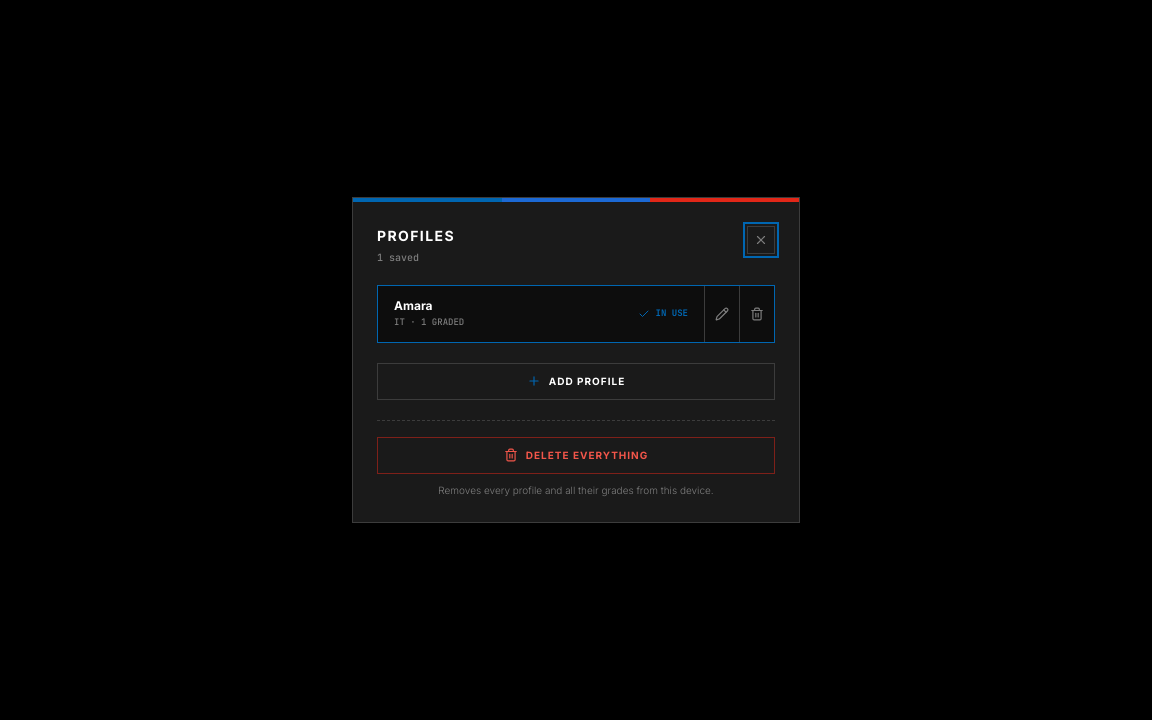
Test: ProfileMenu › warns that deleting the only profile returns to first run
Click the button named "delete amara" at (756, 314), box [739,286,774,342]
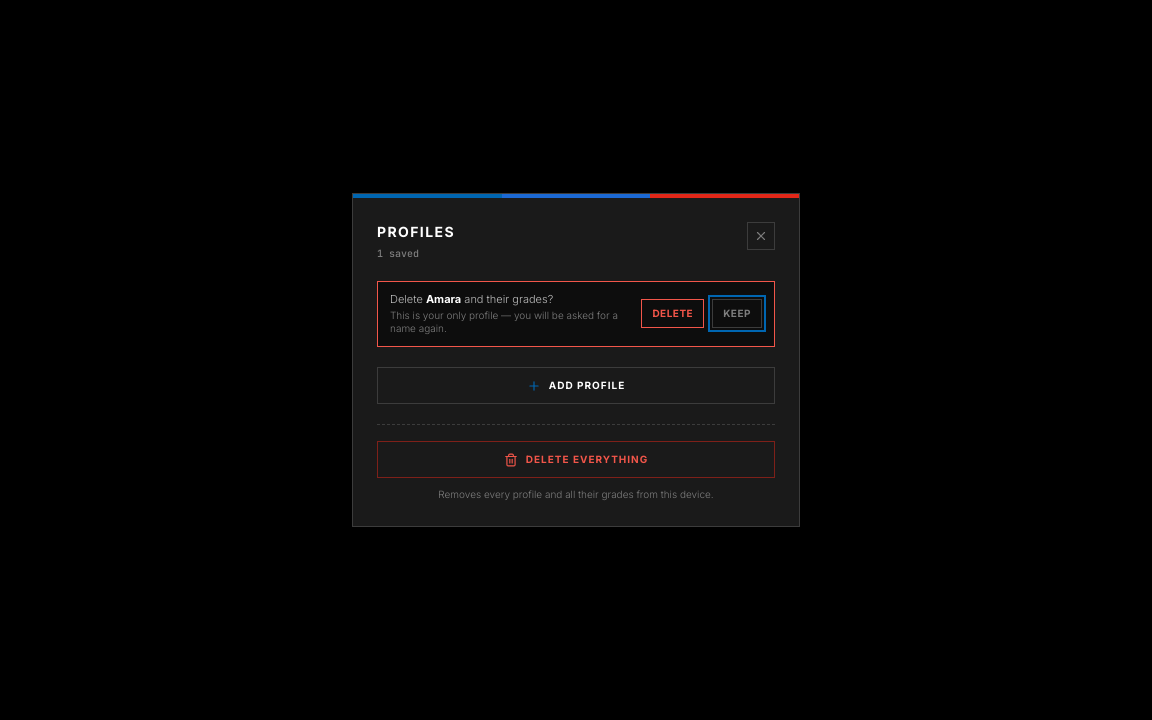
expect the text "only profile" is shown: met, box [390,309,618,334]
